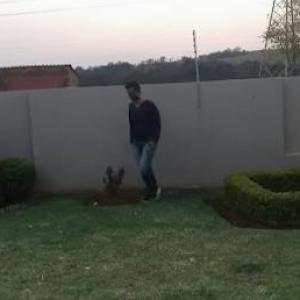follow: (128, 79, 165, 204)
